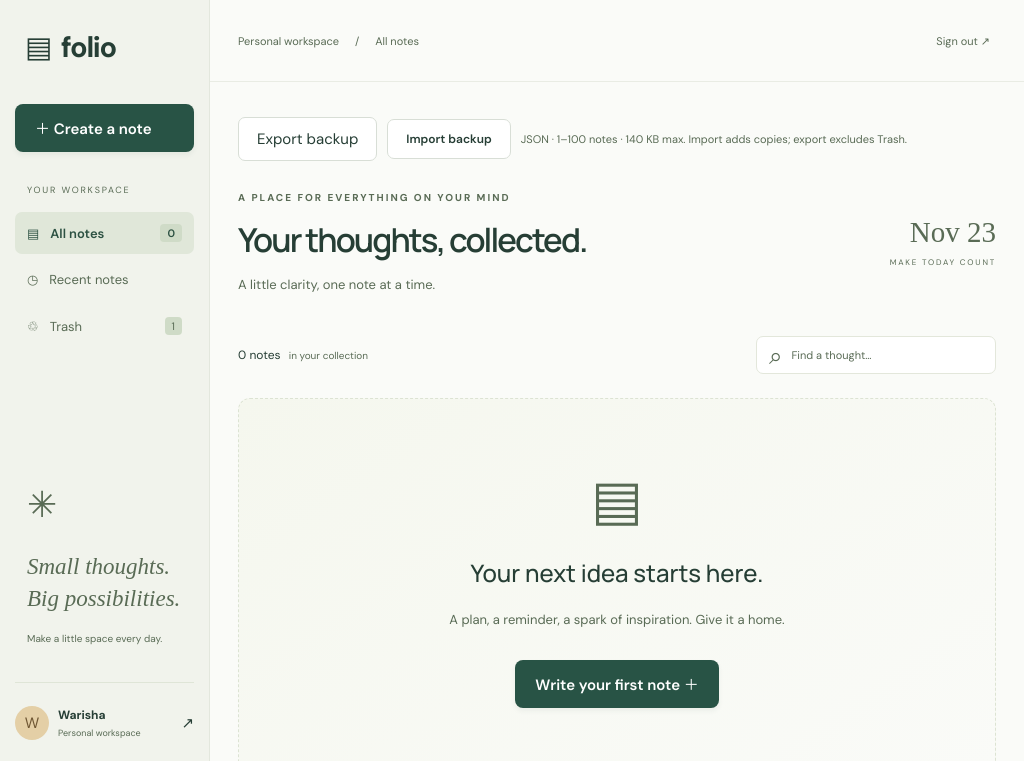
Test: trash restores notes through the owned API and refreshes the dashboard
The image size is (1024, 761).
Click the button "♲ Trash 1" at coordinates (104, 326), box [15,305,194,347]
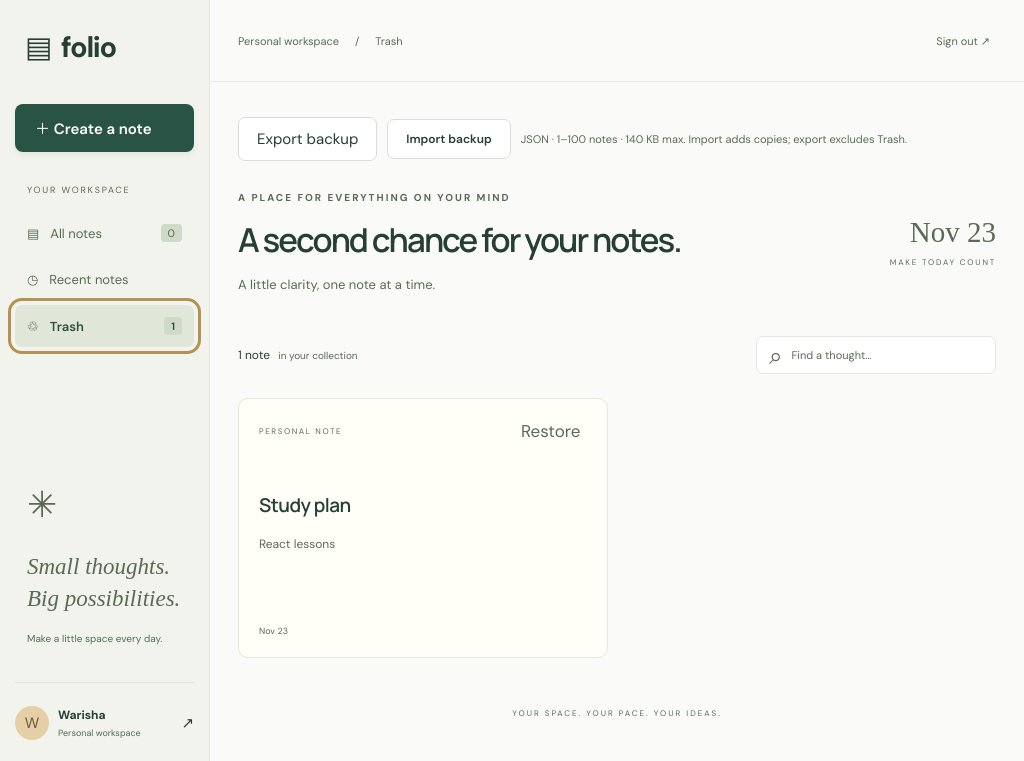
Click the button with aria-label "Restore Study plan" at coordinates (551, 431), box [515,419,586,443]
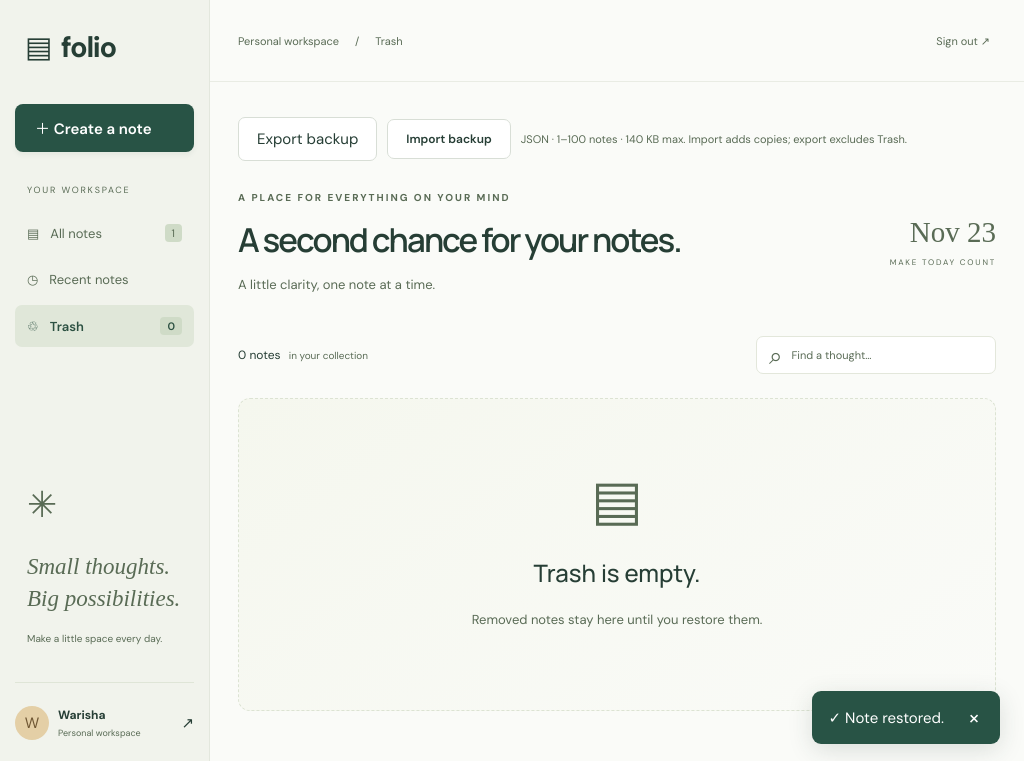
expect the message shows "Note restored.": met, box [845,708,944,728]
Click the button "▤ All notes 1" at coordinates (104, 233), box [15,212,194,254]
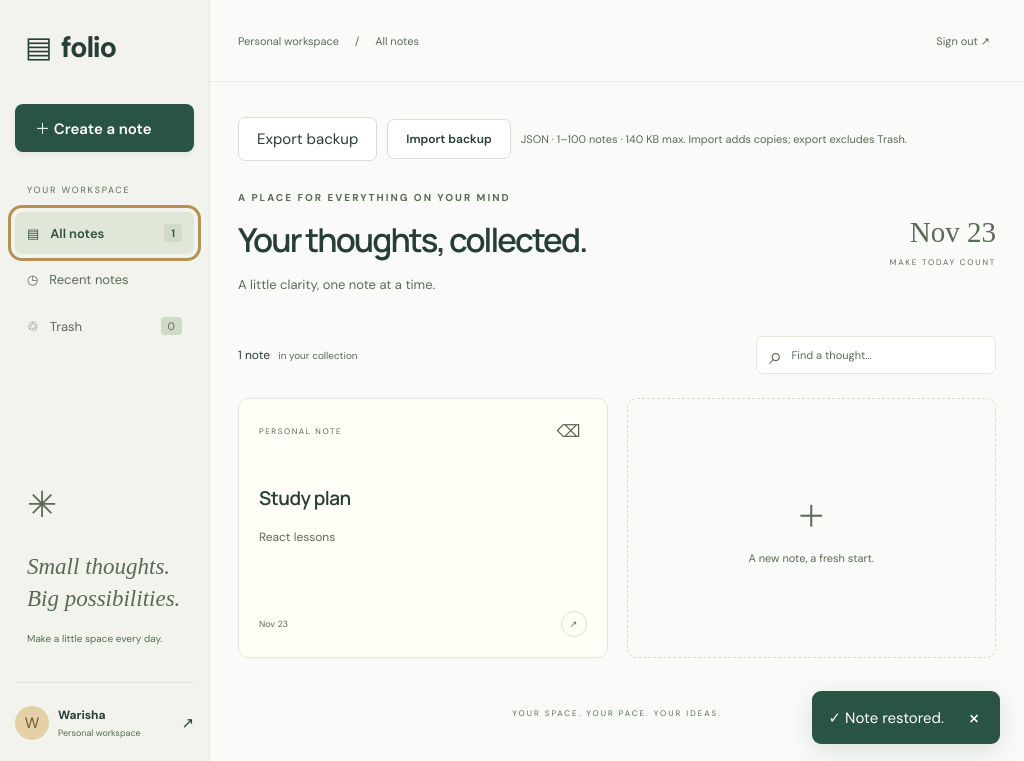
expect the heading "Study plan" is shown: met, box [259,485,351,511]
